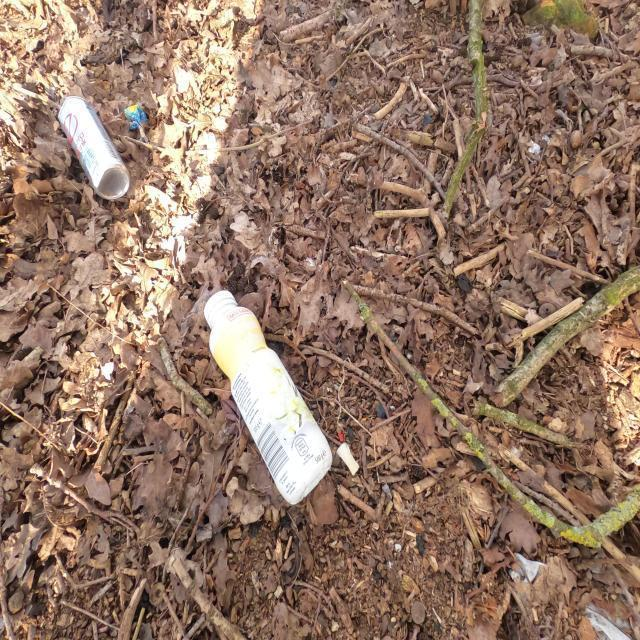Can-Metal: (57, 95, 132, 201)
Plastic: (124, 104, 149, 131)
